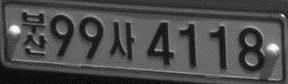1: (177, 23, 202, 68), (207, 25, 232, 69)
4: (147, 20, 174, 66)
8: (237, 26, 265, 72)
9: (49, 13, 75, 57), (78, 15, 104, 59)
부산_V: (21, 11, 46, 56)
사: (108, 21, 135, 59)
